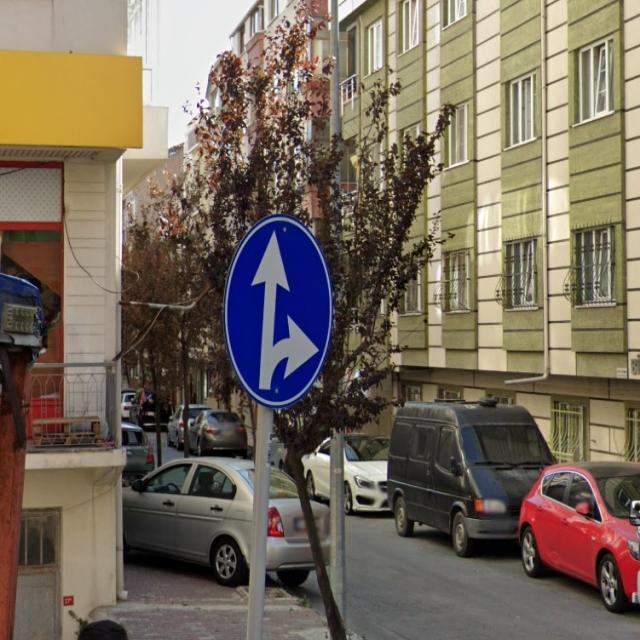ilerisag: (224, 214, 332, 410)
